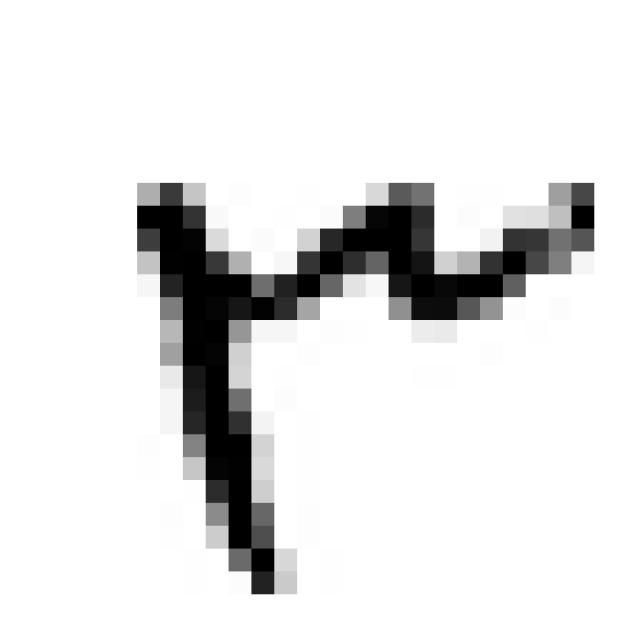3 -three-: (112, 146, 615, 617)
